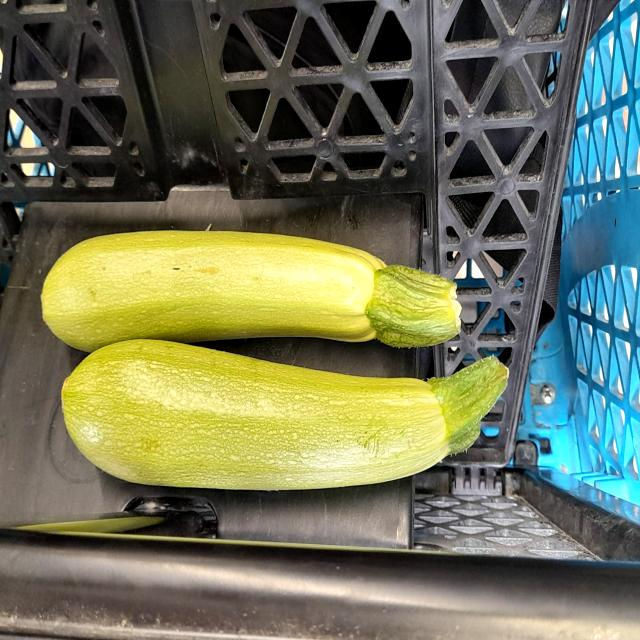zucchini: (45, 328, 513, 497), (22, 211, 464, 360)
